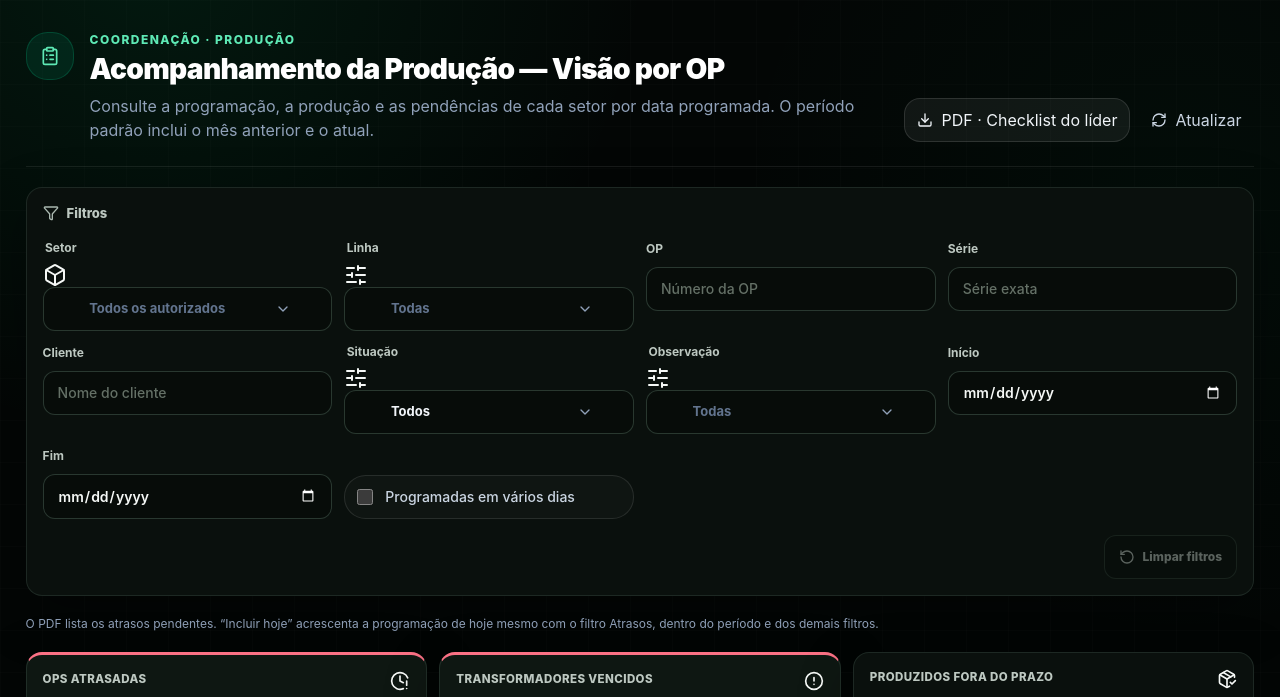
Visão OP — filtros reais e importação › Situação começa em Todos e oferece Atrasos junto ao filtro de observação
The width and height of the screenshot is (1280, 697).
Expected: the dropdown named "Setor" is enabled, [43, 287, 332, 331]
Click the dropdown named "Situação" at (410, 411), box [344, 390, 634, 434]
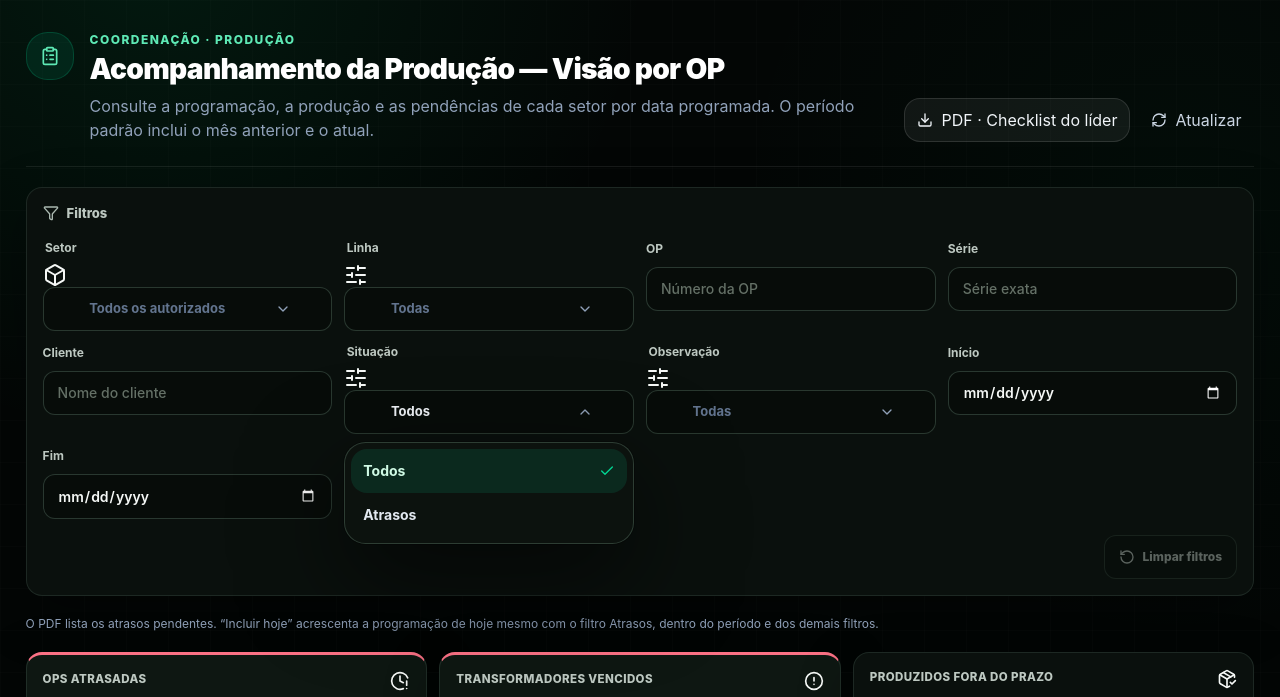
Result: the options read "Todos", "Atrasos", in this order
Click the option "Atrasos" at (390, 515), box [351, 493, 627, 537]
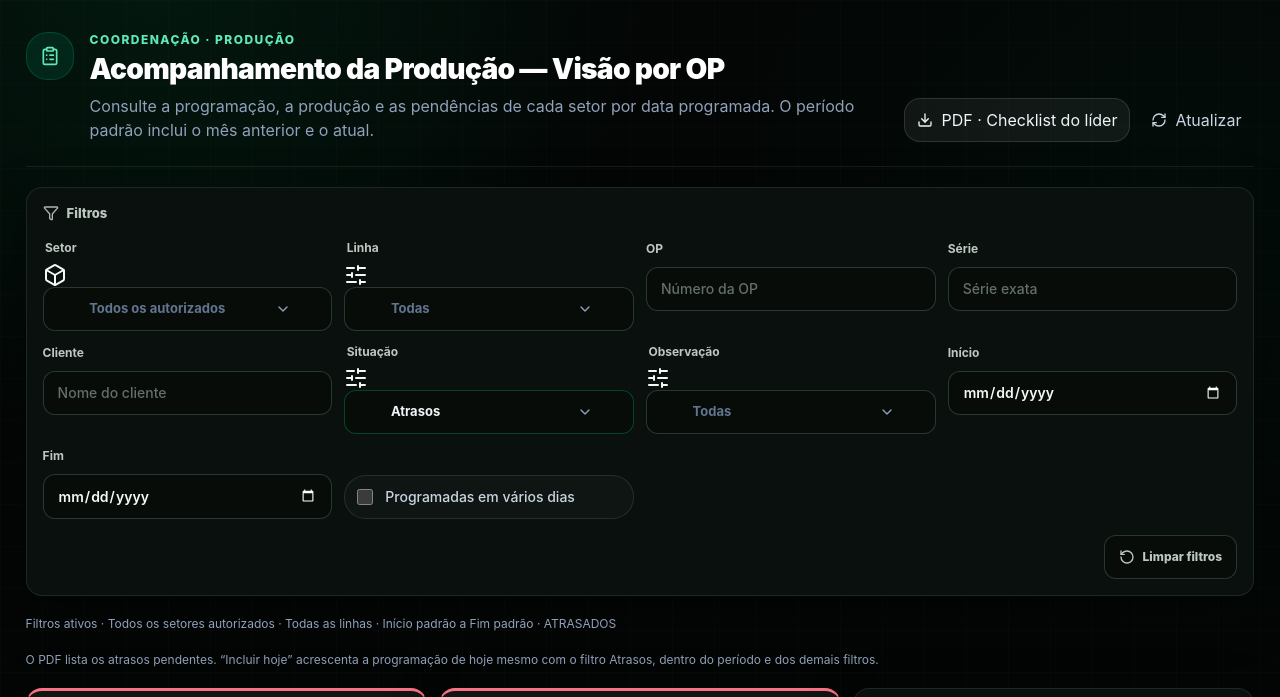
Click the dropdown named "Observação" at (712, 411), box [646, 390, 936, 434]
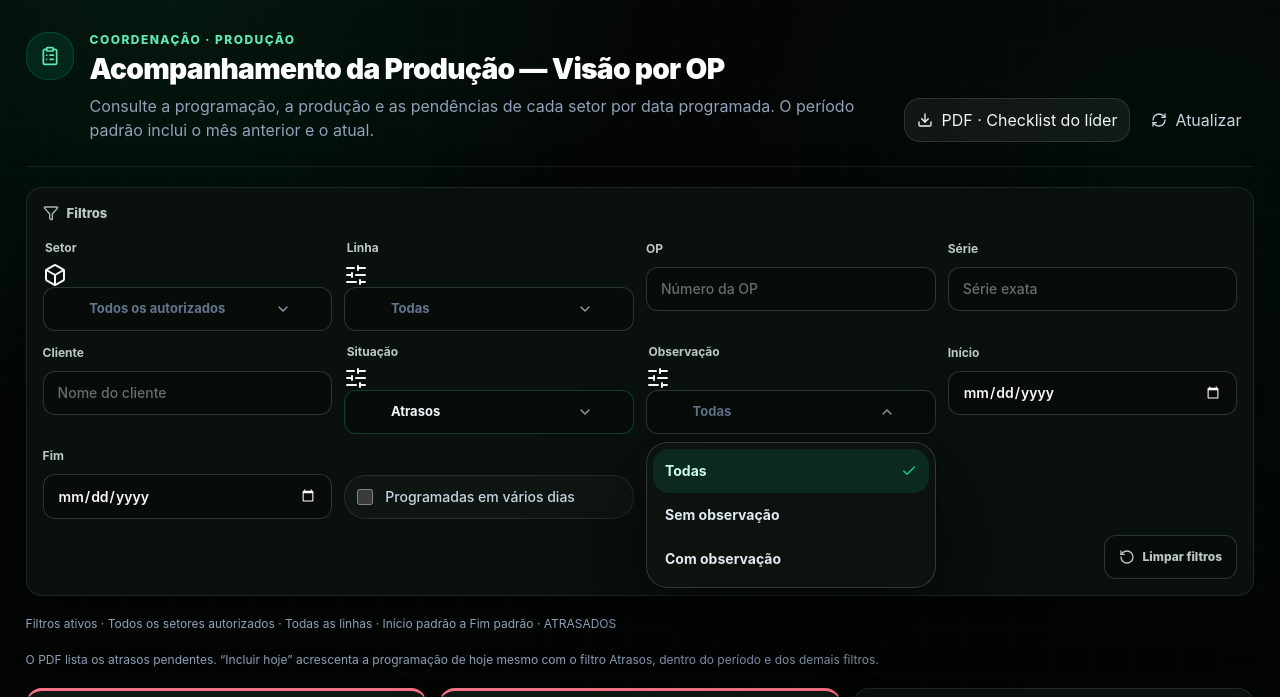
Result: the option "Com observação" is shown at [653, 537, 929, 581]
